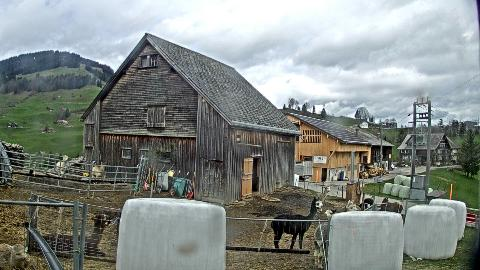car: (390, 164, 396, 170)
sheep: (36, 213, 114, 255), (312, 201, 358, 269), (270, 197, 324, 249), (0, 240, 26, 268), (312, 186, 332, 210), (379, 196, 403, 215), (91, 162, 107, 186), (56, 155, 68, 179), (324, 208, 338, 220), (358, 198, 372, 210), (252, 176, 260, 192)
